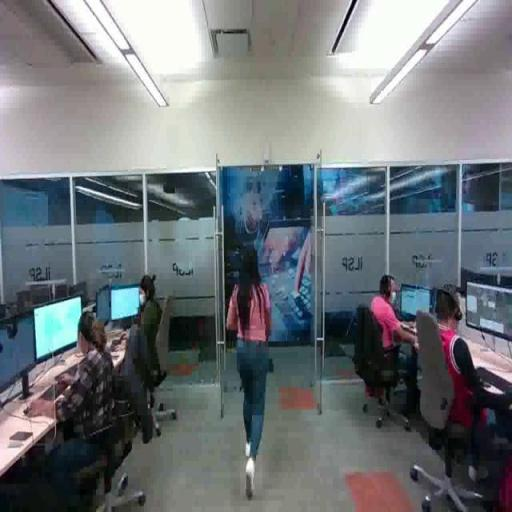person: (22, 305, 132, 510), (418, 282, 512, 496), (224, 240, 272, 503), (119, 271, 180, 433), (367, 270, 419, 419)
